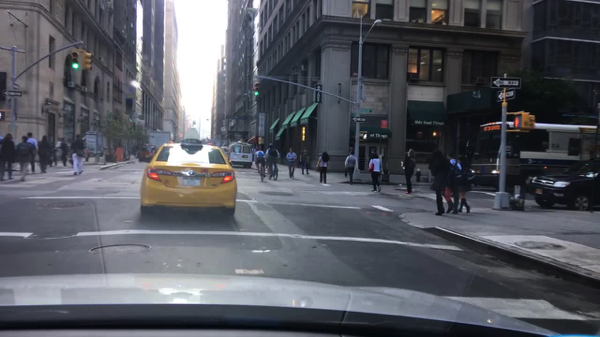bike: (265, 165, 278, 181), (257, 164, 266, 183)
bus: (468, 122, 599, 188)
car: (139, 128, 237, 218), (525, 158, 598, 211), (230, 144, 253, 169), (138, 145, 158, 162), (228, 144, 236, 162), (220, 146, 228, 158), (205, 141, 218, 146)
person: (426, 150, 447, 216), (445, 150, 459, 216), (16, 135, 35, 181), (0, 132, 16, 181), (457, 155, 470, 214), (401, 148, 416, 195), (367, 152, 382, 192), (71, 135, 84, 176), (343, 151, 357, 185), (26, 133, 37, 173), (315, 151, 328, 184), (39, 135, 49, 174), (301, 146, 312, 176), (286, 147, 296, 178), (67, 137, 74, 167), (82, 135, 89, 162), (56, 137, 62, 164), (49, 141, 55, 168), (37, 140, 41, 167), (0, 136, 4, 160), (131, 144, 137, 158)
rider: (265, 143, 279, 179), (254, 148, 265, 177)
traffic light: (513, 113, 528, 129), (82, 51, 93, 72), (70, 50, 80, 71), (528, 115, 534, 132), (0, 111, 6, 122), (361, 132, 369, 140), (254, 82, 258, 97), (179, 134, 183, 140)
traffic sign: (490, 79, 520, 89), (497, 88, 515, 103), (2, 90, 22, 96), (351, 116, 367, 122), (359, 83, 364, 100), (359, 108, 373, 114), (13, 84, 21, 91), (357, 75, 366, 80)
truck: (147, 131, 174, 148)
